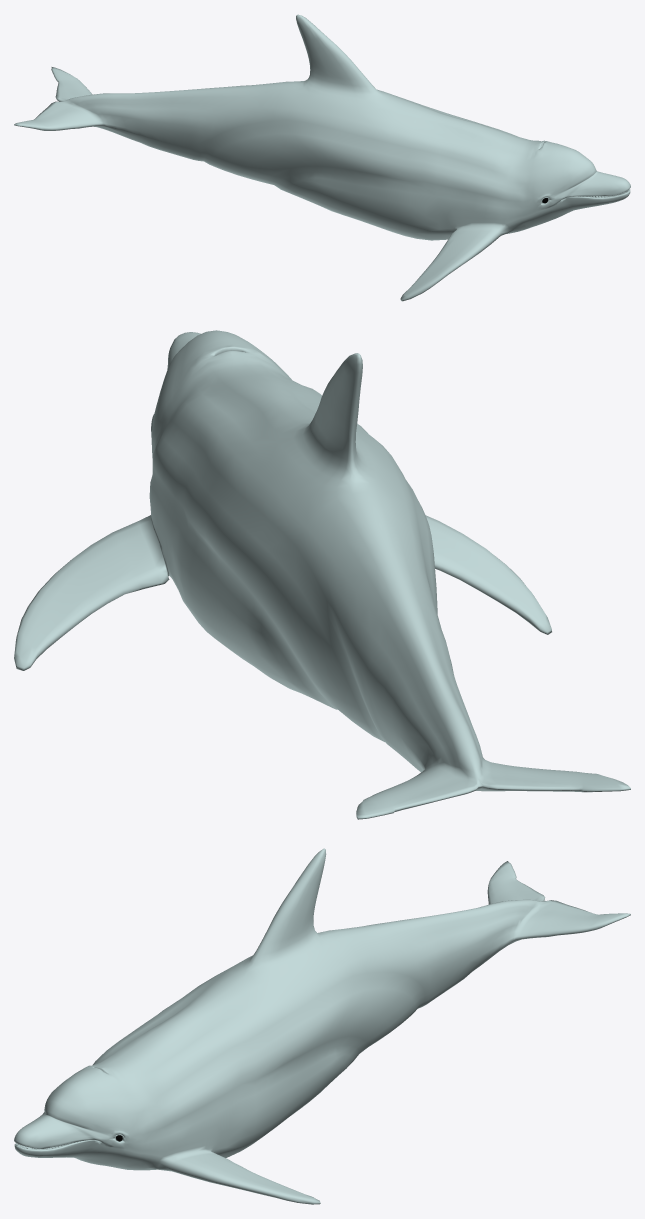
Rendered from dolphin_000003.obj.
3 renders of one model, top to bottom at view 1: azimuth 30°, elevation 25°; view 2: azimuth 150°, elevation 25°; view 3: azimuth 270°, elevation 25°, orthographic. The views are drawn at different scales.
Parts seen in each view (by area): view 1: Dolphin; view 2: Dolphin; view 3: Dolphin.
Part boxes in pixels (x1,y1,x2,y2): Dolphin: [14, 14, 630, 301]; Dolphin: [14, 330, 630, 819]; Dolphin: [14, 848, 630, 1204].
Size of the model in its own units: 5.51 by 2.67 by 5.6.
